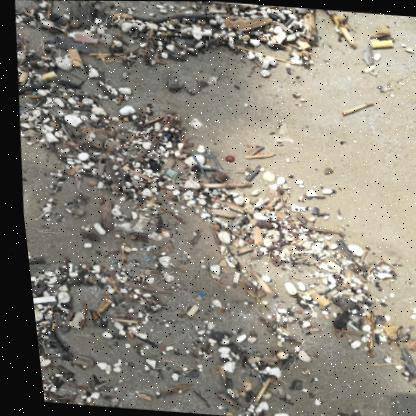Plastic: (73, 31, 96, 43), (26, 296, 48, 303), (160, 169, 173, 178), (340, 321, 351, 330), (29, 91, 35, 95), (317, 314, 321, 319), (129, 185, 134, 188), (138, 259, 144, 261), (162, 135, 166, 138), (192, 293, 196, 296)
Waste: (187, 152, 217, 179), (33, 71, 55, 83), (65, 49, 80, 66), (204, 1, 252, 6), (369, 39, 392, 47), (189, 29, 210, 35), (16, 71, 25, 83)
